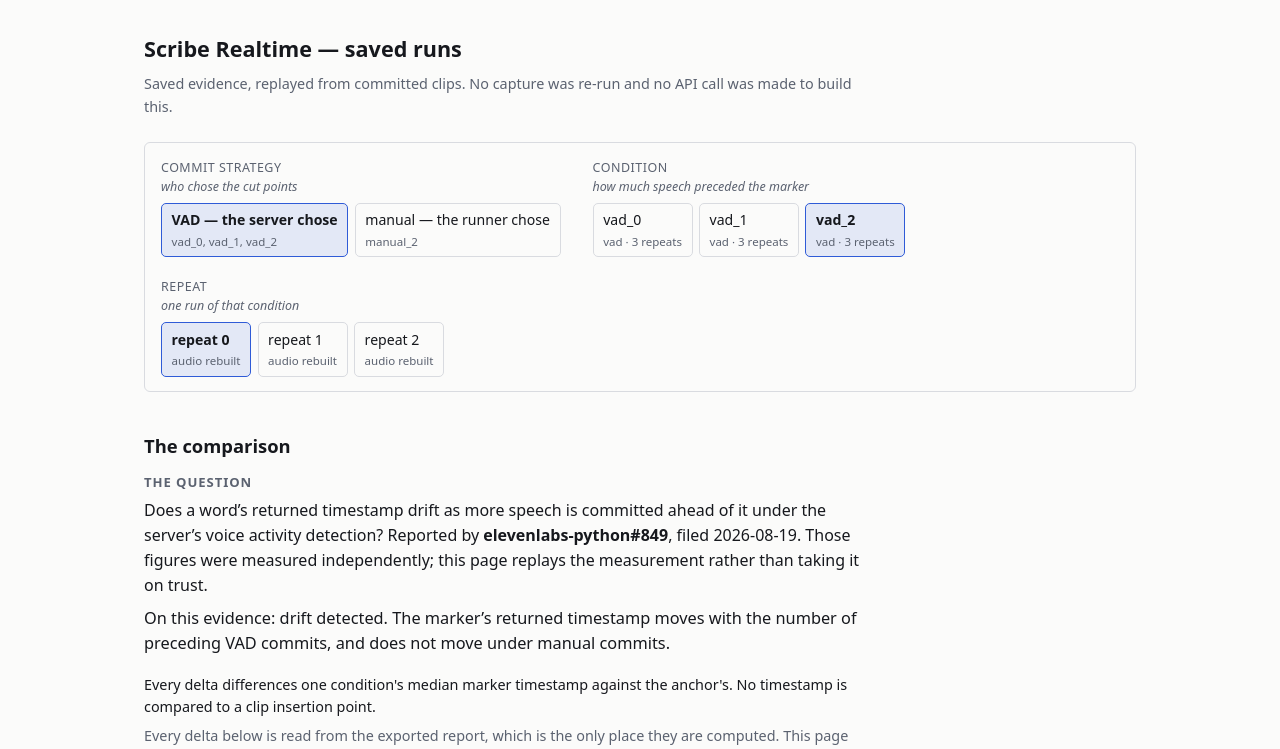
Scenario: switching between strategies and conditions › selects an individual repeat rather than only the condition's aggregate
The image size is (1280, 749).
Step 1. Click the button "repeat 1 audio rebuilt" → (303, 349), box [258,322,348,376]
(page scrolled)
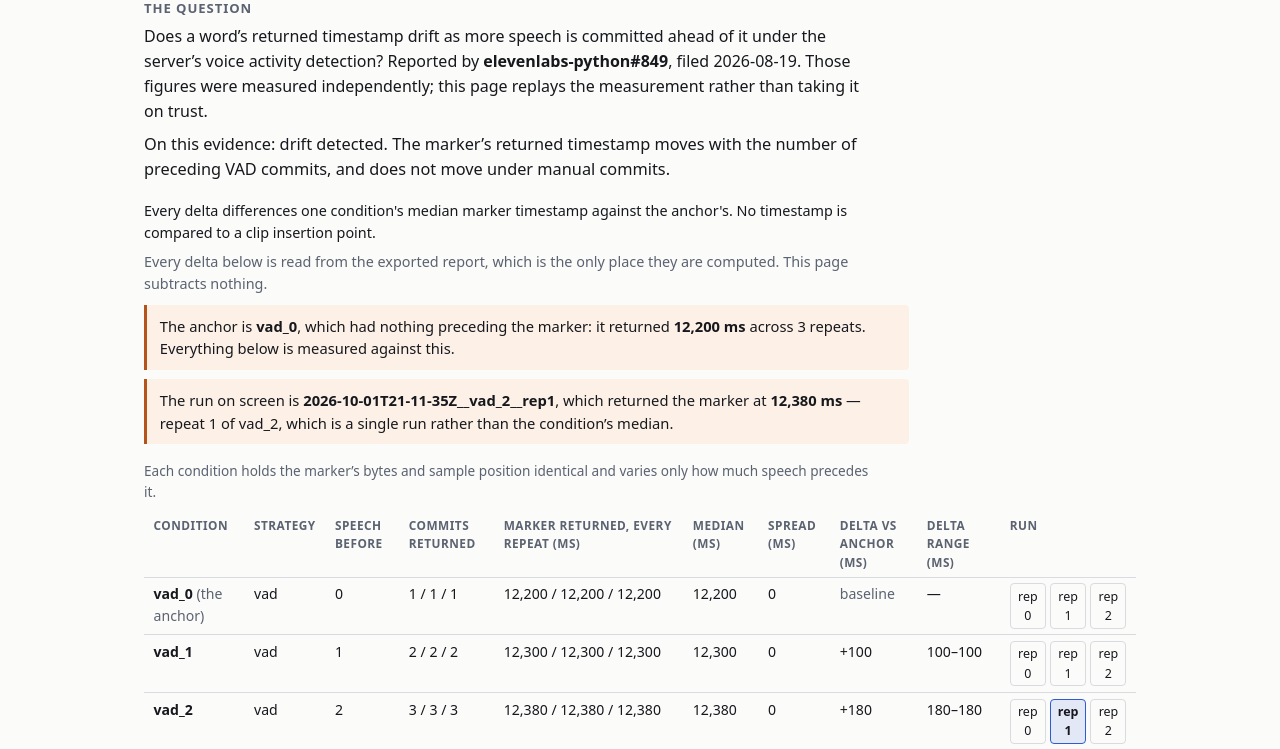
Now the text "2026-10-01T21-11-35Z__vad_2__rep1" is shown, box [303,390,555,410]
